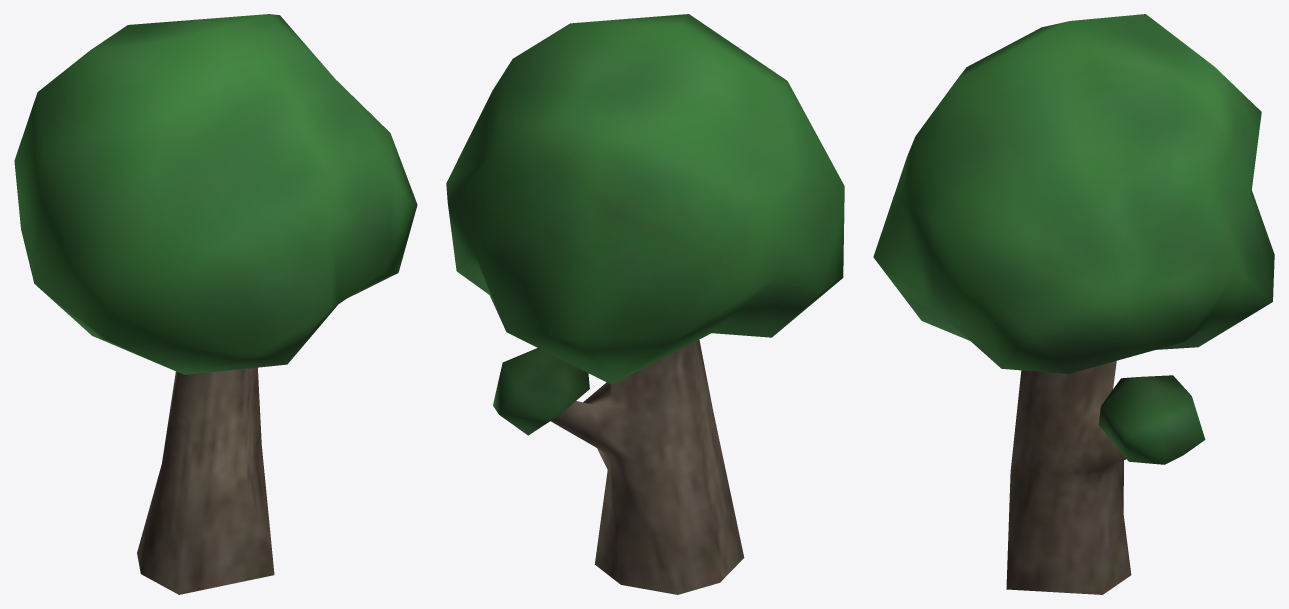
File: Tree3.glb
3 views of the same model, side by side, from view 1: azimuth 30°, elevation 25°; view 2: azimuth 150°, elevation 25°; view 3: azimuth 270°, elevation 25° (orthographic). The views are drawn at different scales.
Parts seen in each view (by area): view 1: Plane.006; view 2: Plane.006; view 3: Plane.006.
Boxes of the visible parts, x1,y1,x2,y2 form: Plane.006: (14,14,417,594); Plane.006: (446,14,844,594); Plane.006: (873,14,1274,594).
Size of the model in its own units: 0.2075 by 0.2928 by 0.1965.
Materials: 1 (1 with a texture image).
